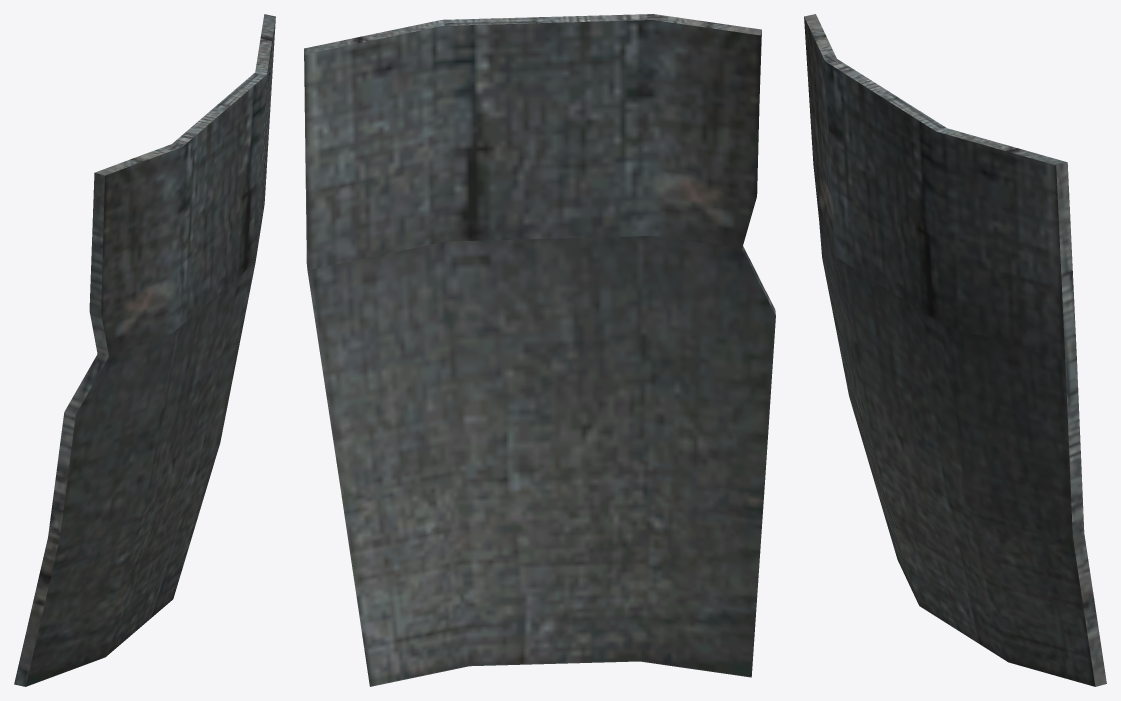
Rendered from flower_barrel_dead_p6.glb.
3 renders of one model, left to right at view 1: azimuth 30°, elevation 25°; view 2: azimuth 150°, elevation 25°; view 3: azimuth 270°, elevation 25°, orthographic. The views are drawn at different scales.
Visible parts, largest first — view 1: flower_barrel_dead_p6; view 2: flower_barrel_dead_p6; view 3: flower_barrel_dead_p6.
Boxes of the visible parts, x1,y1,x2,y2 form: flower_barrel_dead_p6: [14, 14, 275, 686]; flower_barrel_dead_p6: [304, 14, 775, 686]; flower_barrel_dead_p6: [804, 14, 1106, 686].
Size of the model in its own units: 0.2849 by 0.439 by 0.2148.
1 material, 1 textured.
